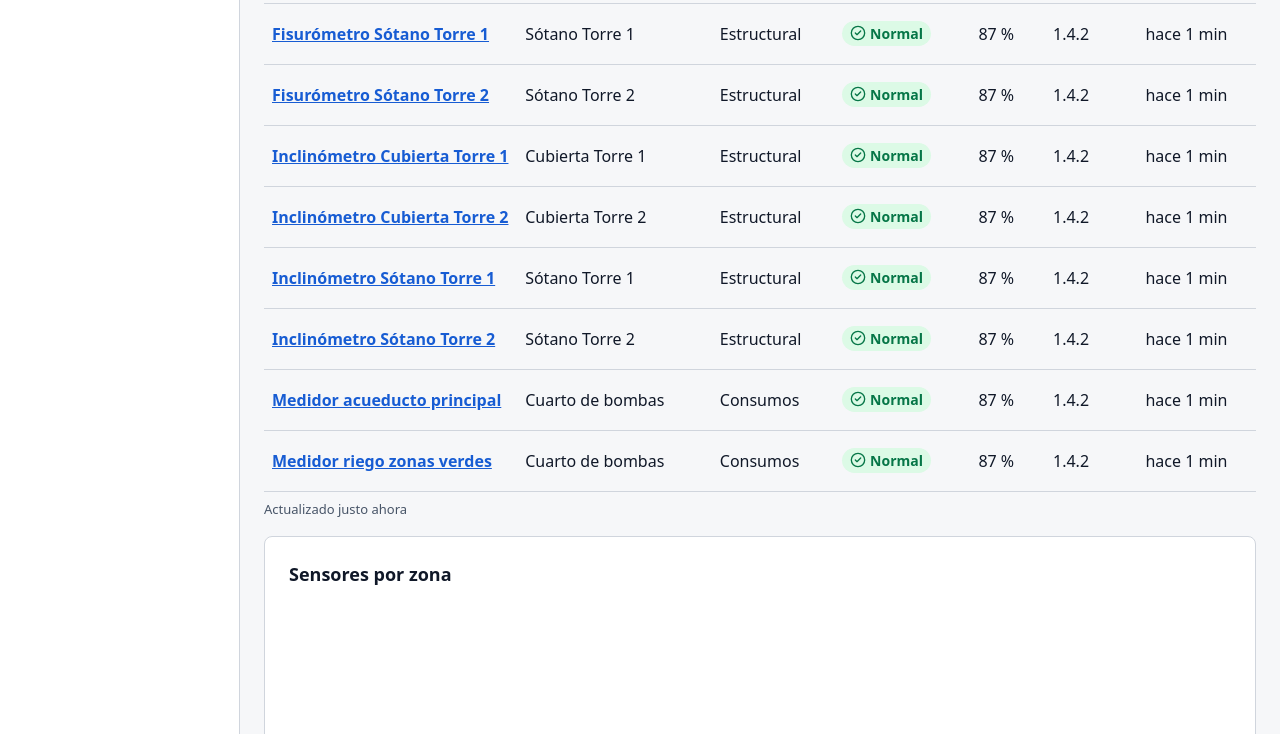
Test: página de sensores › abrir un sensor muestra su detalle
This screenshot has width=1280, height=734.
(page scrolled)
Click the link "Medidor acueducto principal". click: (387, 400)
box: top-left (272, 389), bottom-right (501, 411)
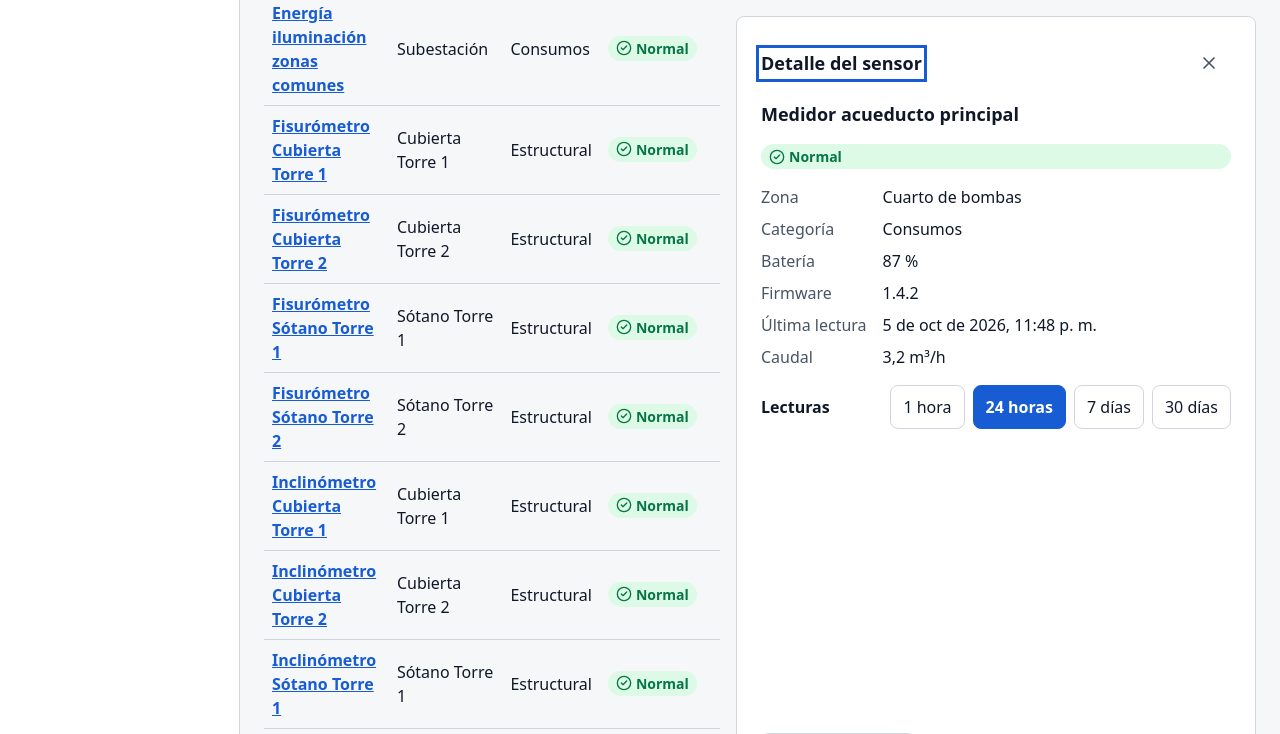
Expected: the heading "Medidor acueducto principal" is shown, top-left (761, 102), bottom-right (1019, 126)
